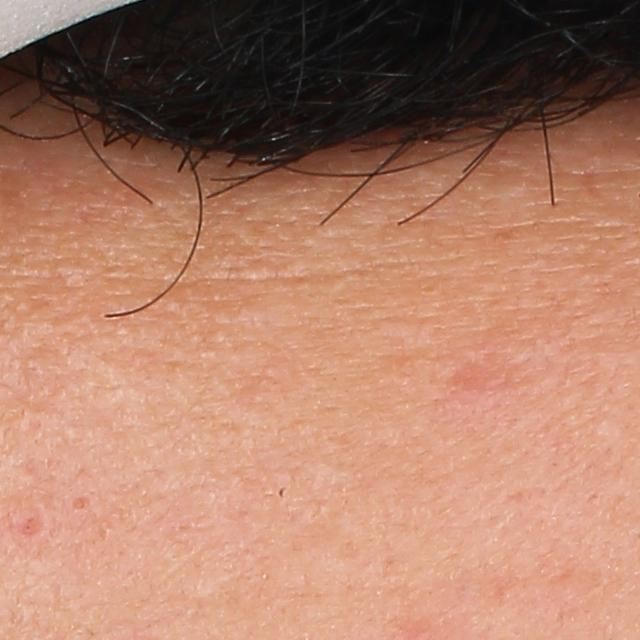comedo: (70, 493, 94, 513)
